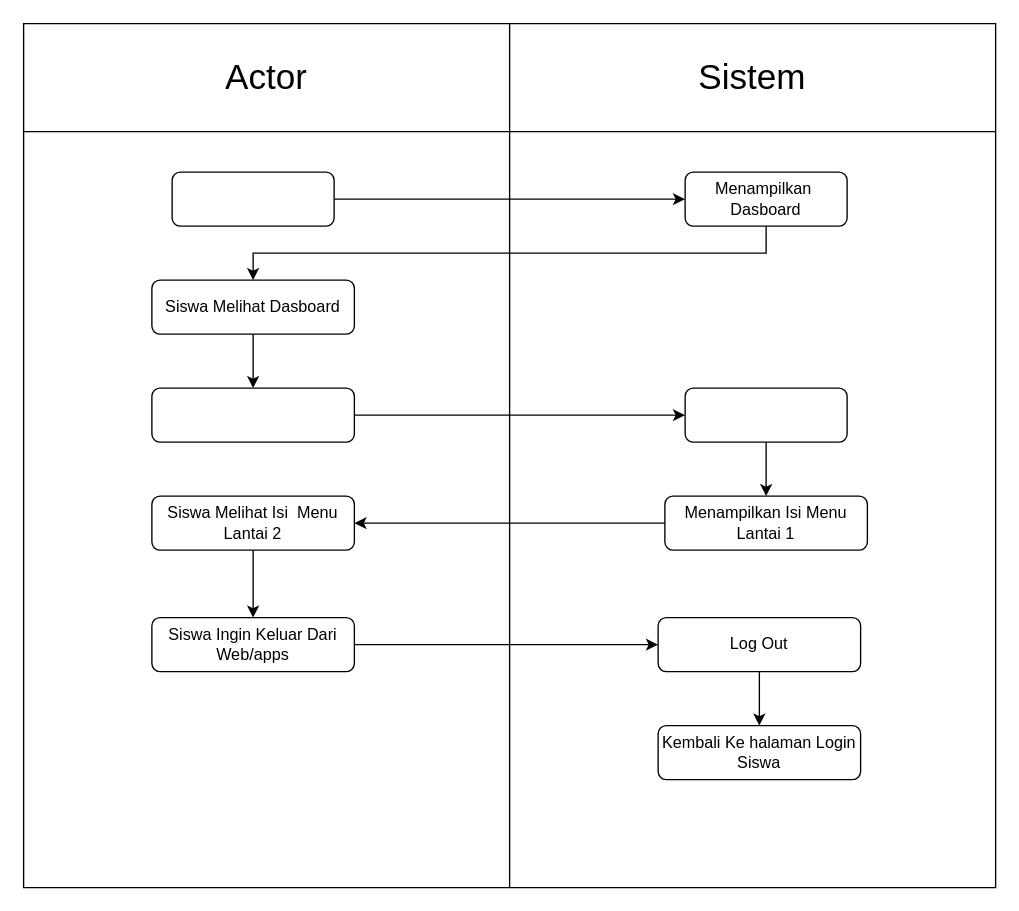
Image size: 1019x911. Some labels were removed from this diagram. The shapes that lost their labels are listed below. From the top down, each one's centre as x and y in pixels, then its label:
At (252,198): "Siswa Membuka Halaman Beranda".
At (252,414): "Siswa Memilih Menu Lantai 2".
At (765,414): "Membuka Menu Lantai 2".
